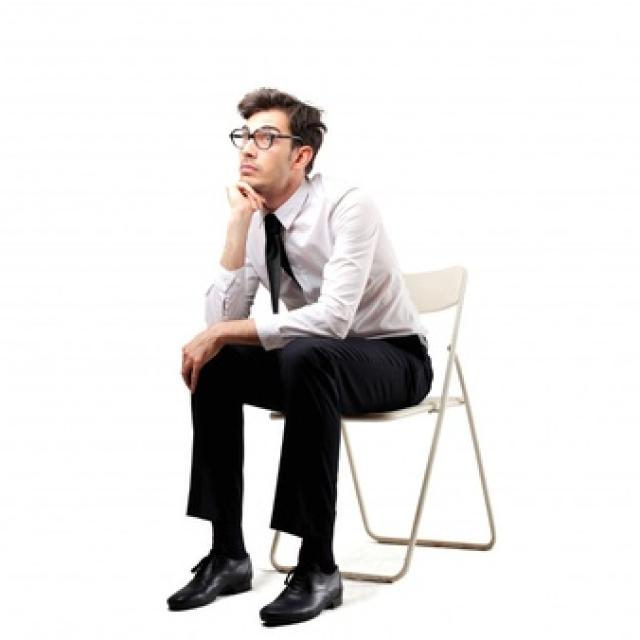nonfall: (145, 73, 440, 623)
